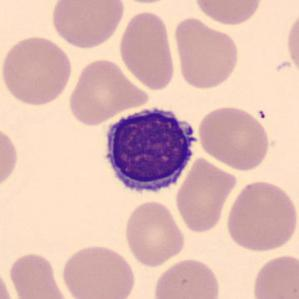Lymphocyte: (96, 100, 202, 202)
RBC: (64, 57, 150, 126), (223, 178, 298, 254), (0, 34, 74, 108), (172, 15, 241, 91), (116, 9, 178, 92), (174, 155, 238, 235), (196, 104, 272, 171), (122, 198, 187, 268), (59, 242, 137, 299), (48, 0, 126, 50), (6, 250, 73, 299), (151, 256, 223, 299), (249, 252, 298, 299), (192, 0, 265, 27), (0, 122, 21, 192), (284, 8, 299, 78), (0, 262, 17, 299)
